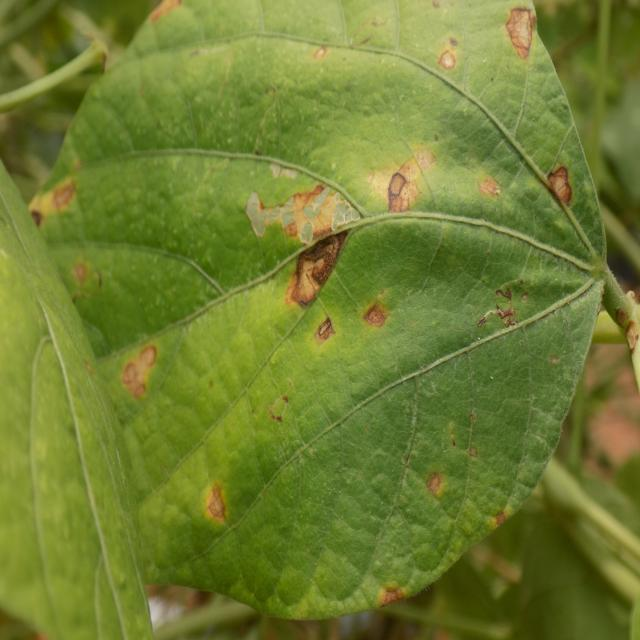Dolicos bean_cercospora leaf spot: (10, 0, 611, 617)
